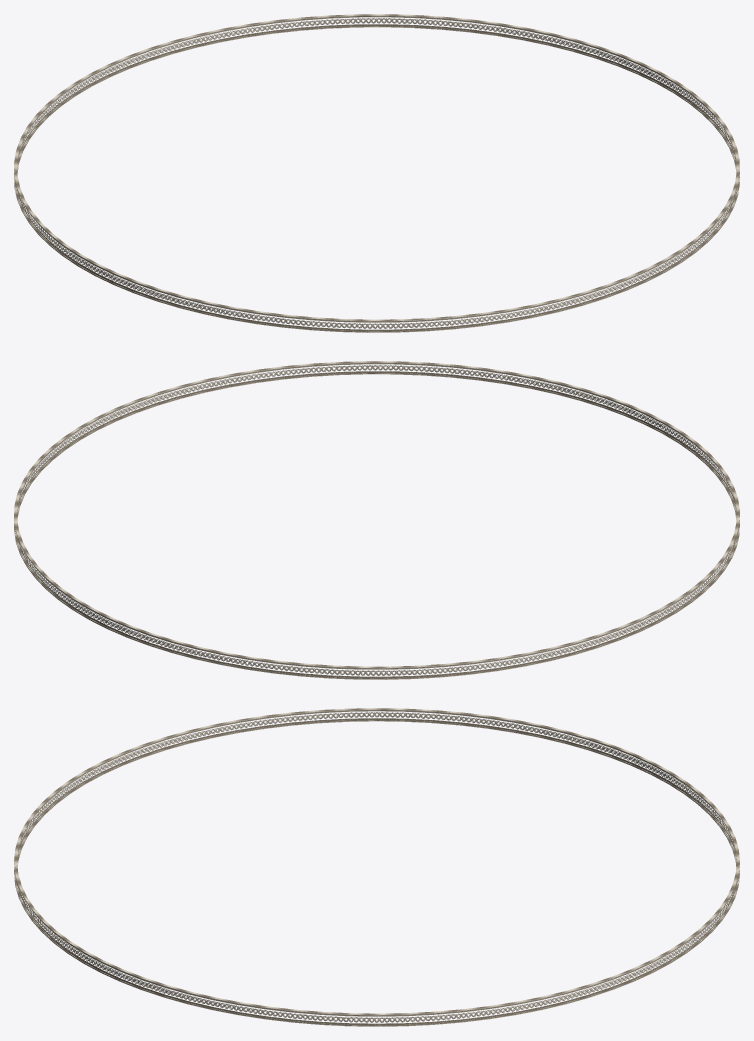
File: ring_9.obj
The picture shows the model from 3 angles, top to bottom: view 1: azimuth 30°, elevation 25°; view 2: azimuth 150°, elevation 25°; view 3: azimuth 270°, elevation 25°; orthographic projection.
Bounding box in the file's own units: 63.3 × 1.14 × 63.3.
